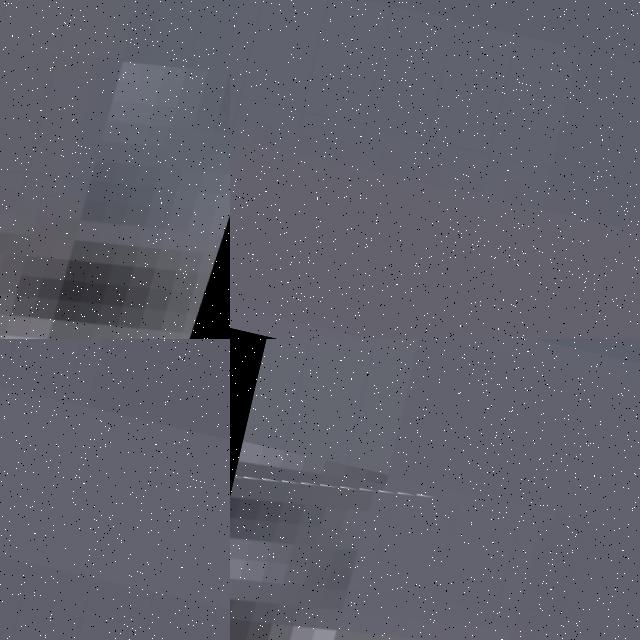drone: (0, 0, 230, 339), (230, 451, 640, 640)
